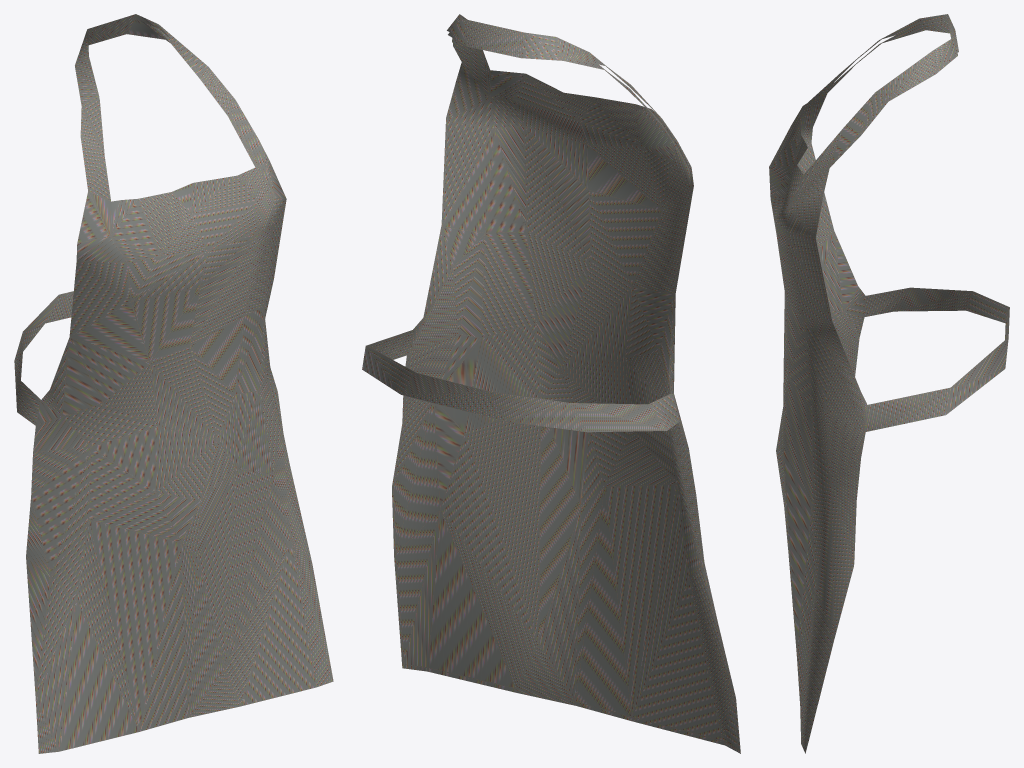
3 views of the same model, side by side, from view 1: azimuth 30°, elevation 25°; view 2: azimuth 150°, elevation 25°; view 3: azimuth 270°, elevation 25° (orthographic). The views are drawn at different scales.
Parts seen in each view (by area): view 1: Art Apron; view 2: Art Apron; view 3: Art Apron.
Part boxes in pixels (bbox=[...]): Art Apron: bbox=[14, 14, 333, 753]; Art Apron: bbox=[362, 14, 740, 753]; Art Apron: bbox=[769, 14, 1009, 753].
Size of the model in its own units: 0.4801 by 1.01 by 0.3361.
1 material, 1 textured.
